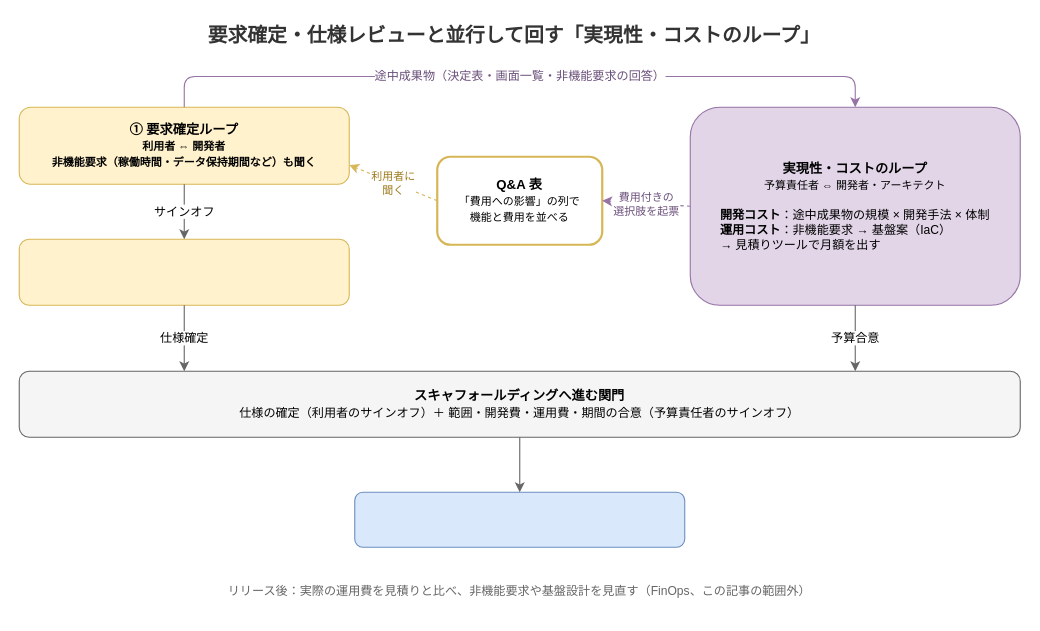
The diagram is 1040 pixels wide and 631 high, and some of its shapes have lost their labels. Each missing label, with the centre of its shape:
② 仕様レビューループ エージェント同士の批判・形式手法の検査: pixel 183 271
③ 仕様駆動のスキャフォールディング: pixel 519 519
